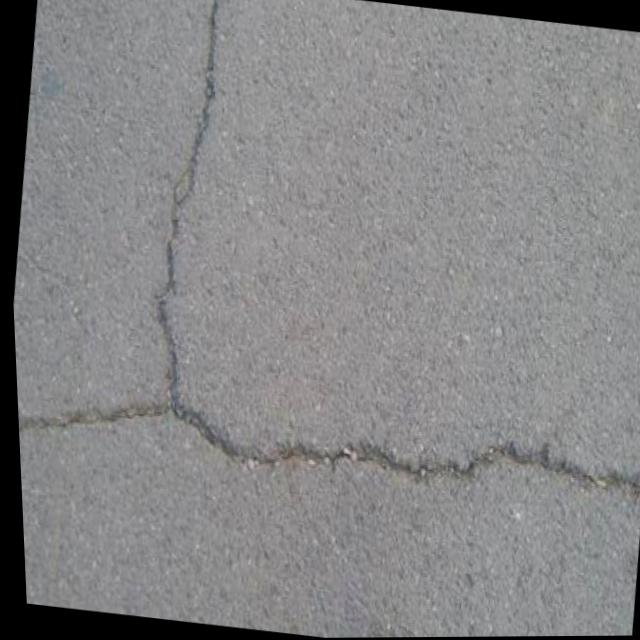Crack: (13, 367, 640, 535), (131, 0, 270, 408)
